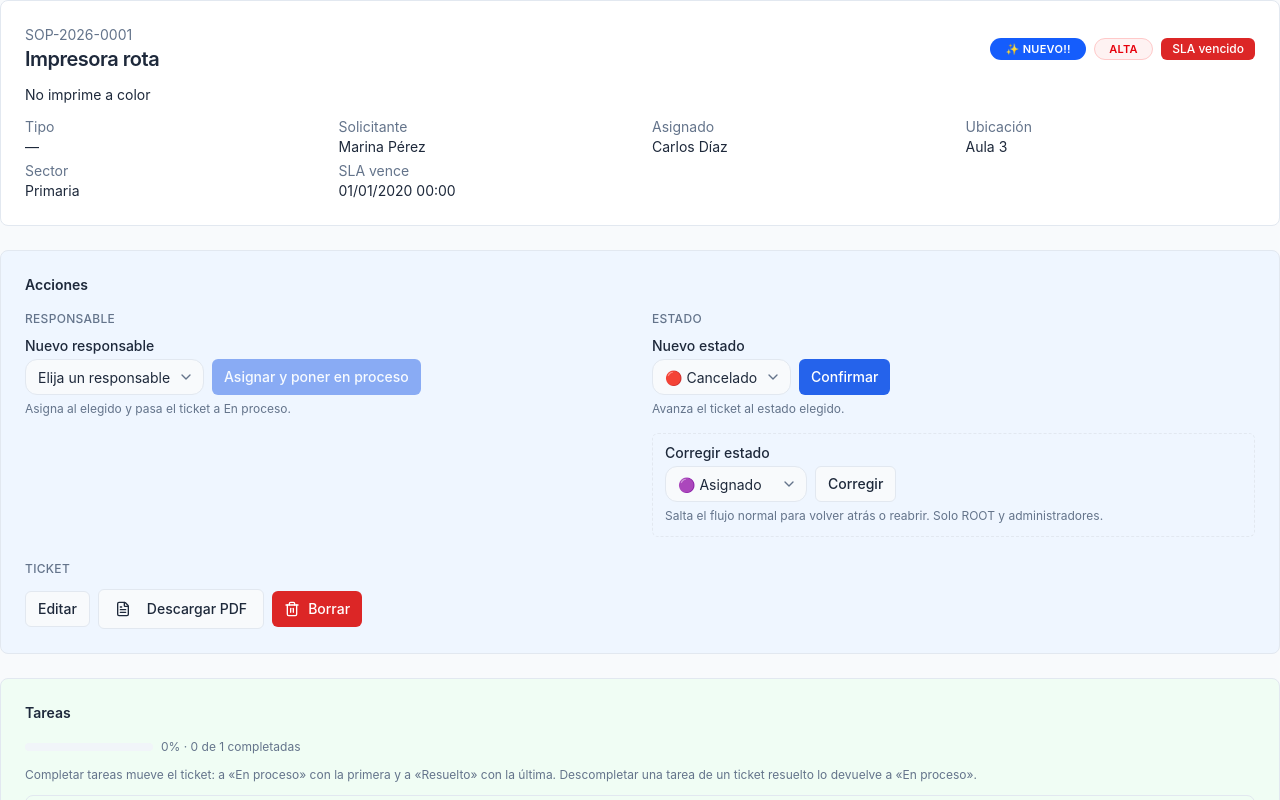
Test: TicketDetailView — ubicación y sector (odd/ubicacion-sector-ticket) › ticket con tipo desactivado (fuera del catálogo): muestra la ubicación en la cabecera y en el modal
Expected: the text "Aula 3" is shown, [966,138,1007,155]
Expected: the text "Ubicación" is shown, [966,118,1032,135]
What coordinates should you click on to do the following:
click the button "Editar"
I would click on:
 (57, 609)
Its box is [25,591,90,627].
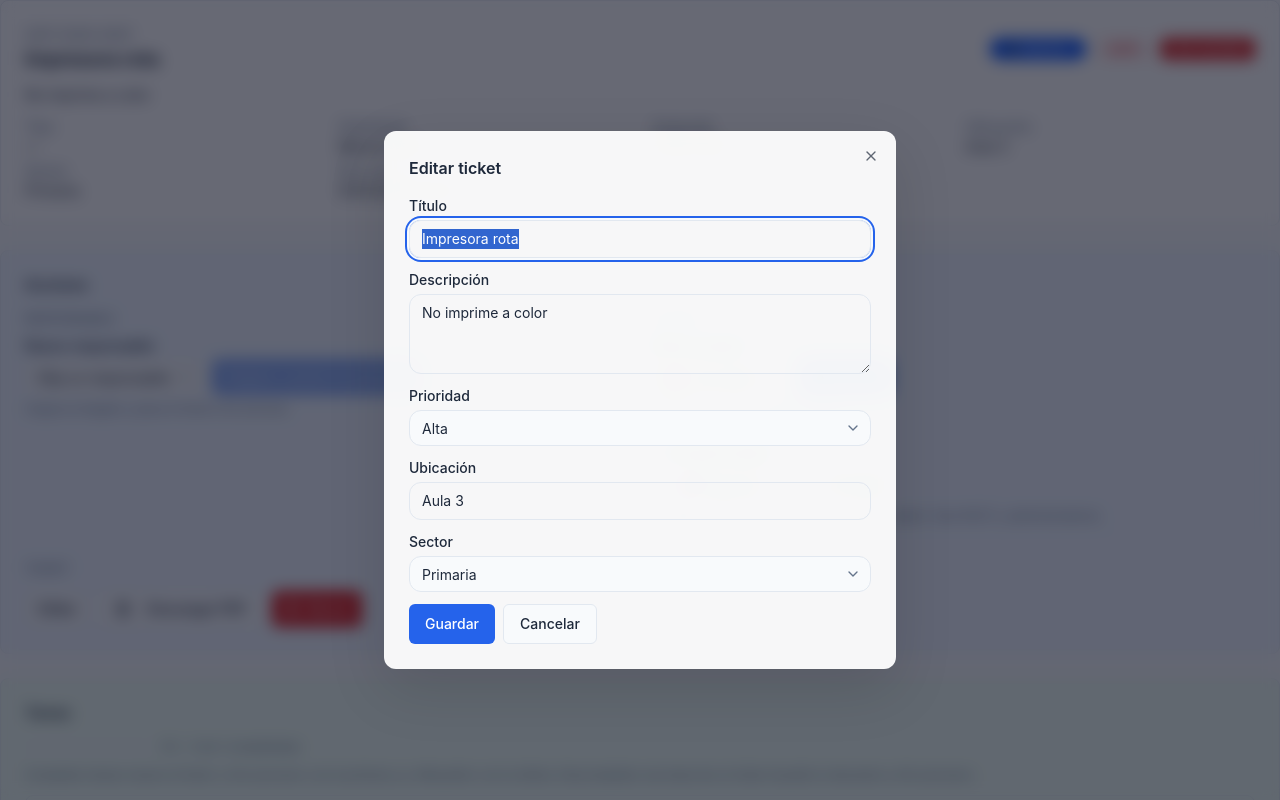
Expected: the field labelled "Ubicación" holds "Aula 3", [409,482,871,520]
